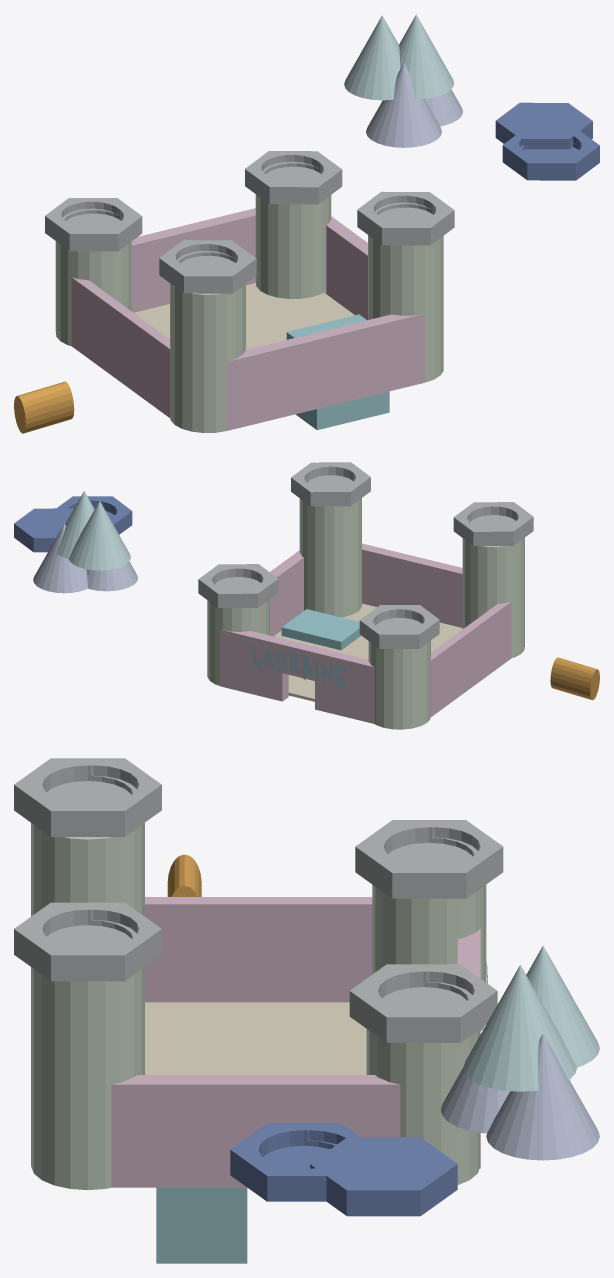
Rendered from larrainecastle.glb.
The picture shows the model from 3 angles, top to bottom: view 1: azimuth 30°, elevation 25°; view 2: azimuth 150°, elevation 25°; view 3: azimuth 270°, elevation 25°; orthographic projection. The views are drawn at different scales.
Visible parts, largest first — view 1: Mesh_Mesh_head_geo.001_lambert2SG.001; view 2: Mesh_Mesh_head_geo.001_lambert2SG.001; view 3: Mesh_Mesh_head_geo.001_lambert2SG.001.
Part boxes in pixels (x1=…): Mesh_Mesh_head_geo.001_lambert2SG.001: x1=14, y1=14, x2=599, y2=433; Mesh_Mesh_head_geo.001_lambert2SG.001: x1=14, y1=462, x2=599, y2=729; Mesh_Mesh_head_geo.001_lambert2SG.001: x1=14, y1=758, x2=599, y2=1263.
Bounding box in the file's own units: 191 × 79 × 103.
